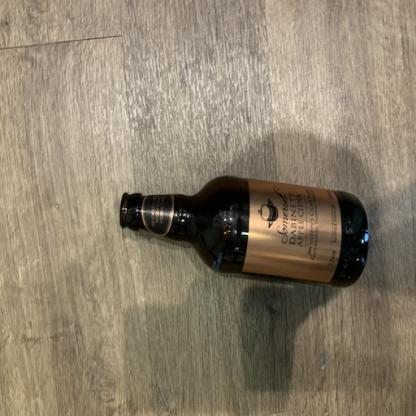trash: (110, 173, 369, 286)
